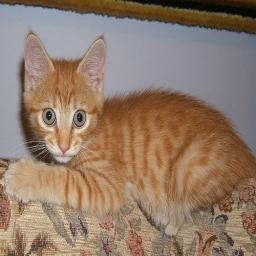catnose: (57, 135, 71, 158)
